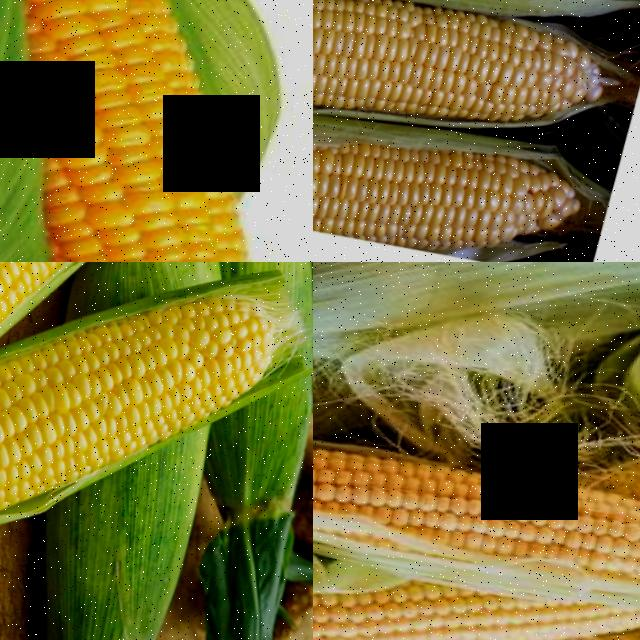corn: (313, 389, 640, 640), (0, 0, 313, 262), (17, 263, 284, 481), (313, 0, 620, 178), (313, 95, 594, 262), (0, 0, 255, 152), (0, 335, 114, 572), (335, 555, 571, 640)
